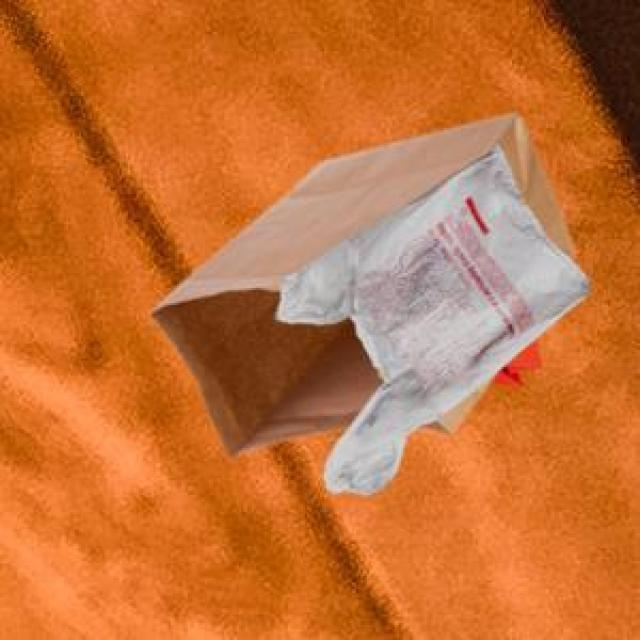paper: (147, 109, 572, 454), (486, 335, 538, 382)
